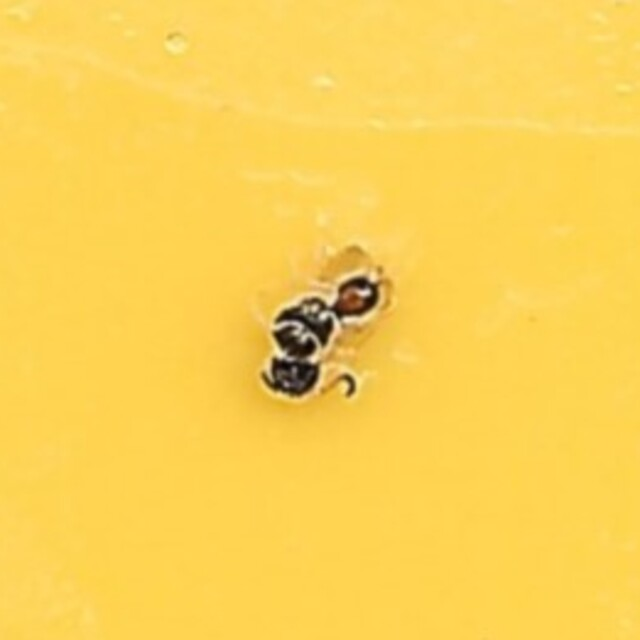Hymenoptera: (245, 239, 395, 401)
